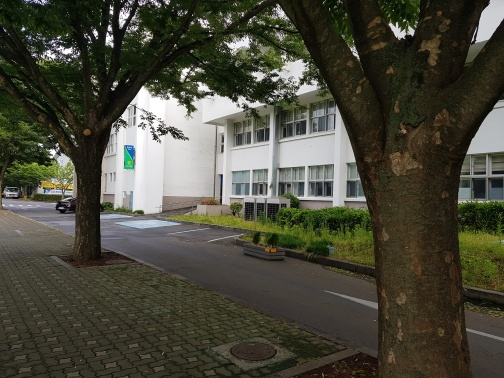Main Building of University: (103, 69, 504, 233), (115, 137, 137, 175)
